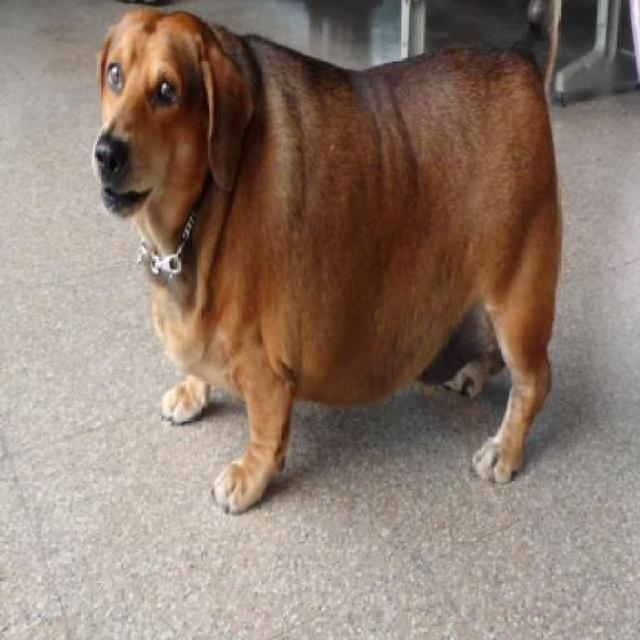Dog: (89, 3, 569, 519)
